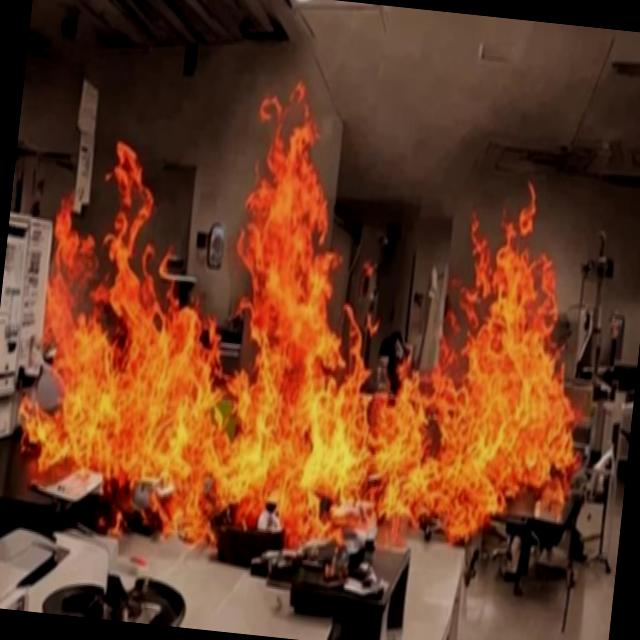fire: (6, 92, 622, 562)
